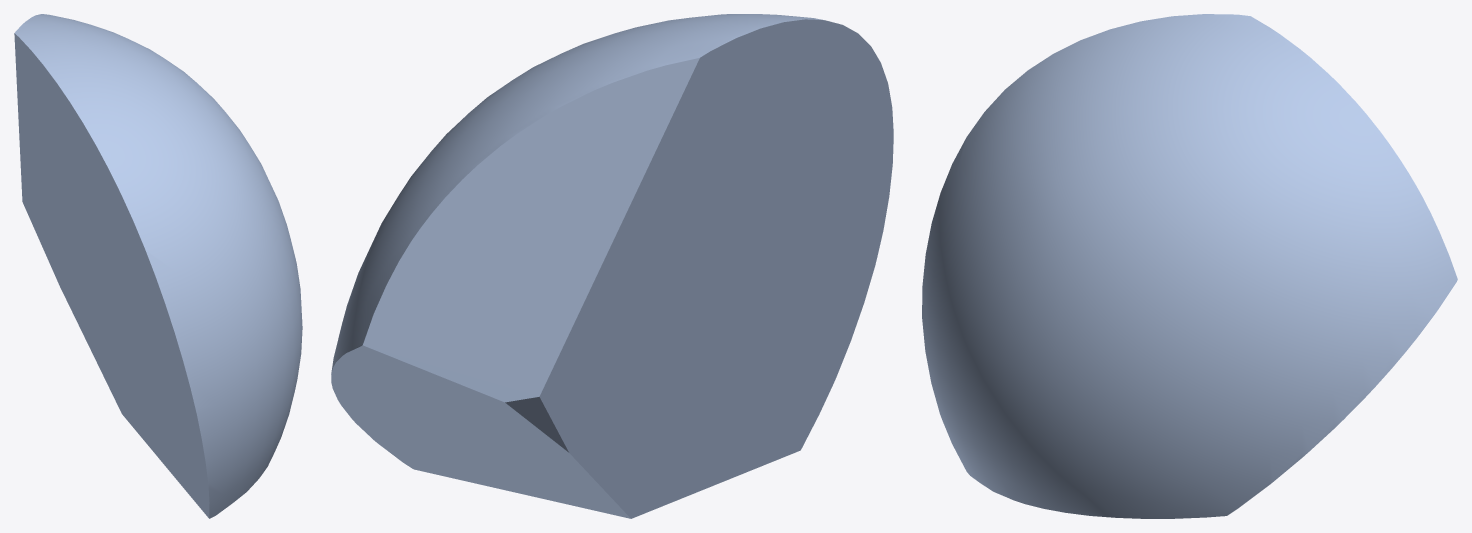
The model's file is Ball1_1.fbx.
The picture shows the model from 3 angles, left to right: view 1: azimuth 30°, elevation 25°; view 2: azimuth 150°, elevation 25°; view 3: azimuth 270°, elevation 25°; orthographic projection. The views are drawn at different scales.
Parts seen in each view (by area): view 1: Cube_cell.074; view 2: Cube_cell.074; view 3: Cube_cell.074.
Part boxes in pixels (box(x1,y1,x2,y2)): Cube_cell.074: box(14, 14, 302, 518); Cube_cell.074: box(331, 14, 893, 518); Cube_cell.074: box(922, 14, 1457, 518).
Size of the model in its own units: 78.66 by 123 by 140.
